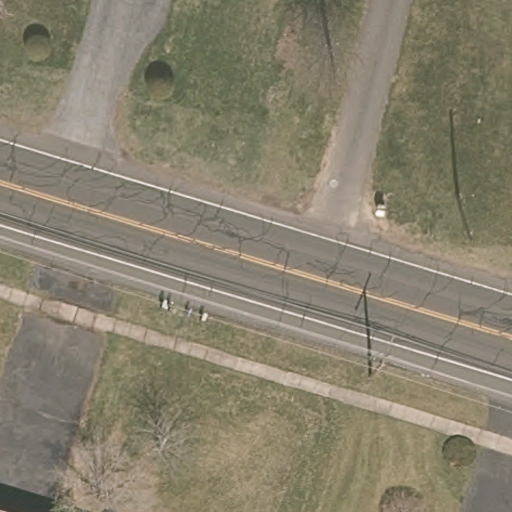DT: (369, 335, 395, 379)
